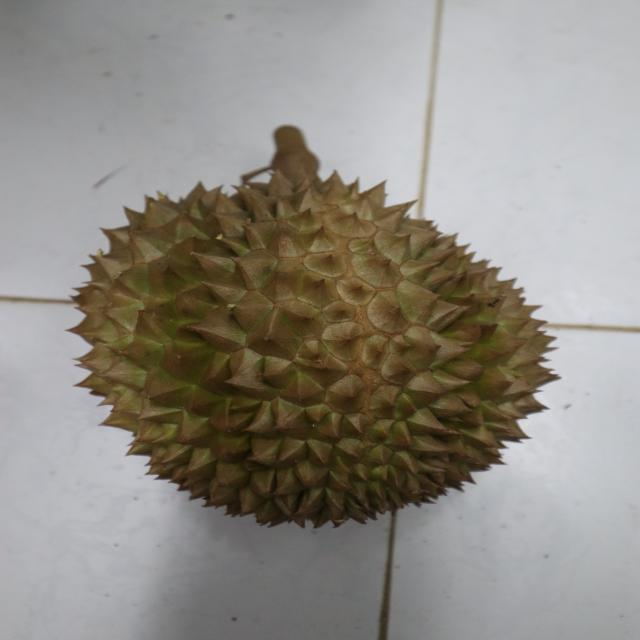mature: (64, 170, 566, 532)
